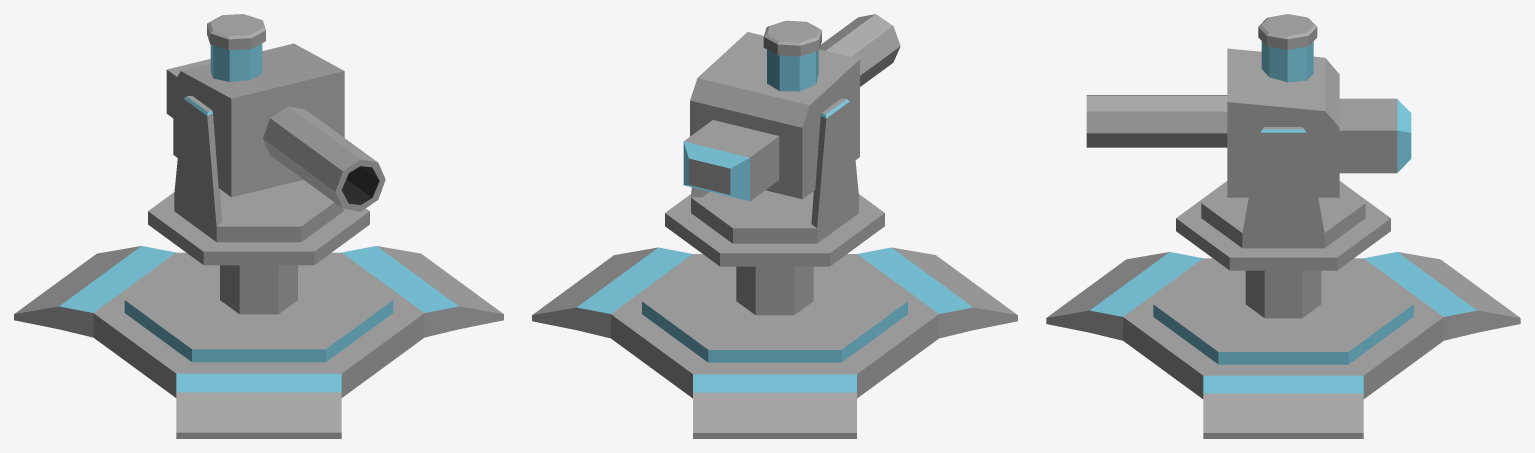
Rendered from Turret.fbx.
3 views of the same model, side by side, from view 1: azimuth 30°, elevation 25°; view 2: azimuth 150°, elevation 25°; view 3: azimuth 270°, elevation 25° (orthographic). The views are drawn at different scales.
Parts seen in each view (by area): view 1: Support, Turret; view 2: Support, Turret; view 3: Support, Turret.
Boxes of the visible parts, box(x1,y1,x2,y2) form: Support: box(14, 192, 503, 438); Turret: box(166, 14, 385, 242); Support: box(532, 194, 1017, 438); Turret: box(683, 14, 900, 243); Support: box(1046, 181, 1520, 438); Turret: box(1086, 14, 1411, 248).
Size of the model in its own units: 256 by 212 by 296.
